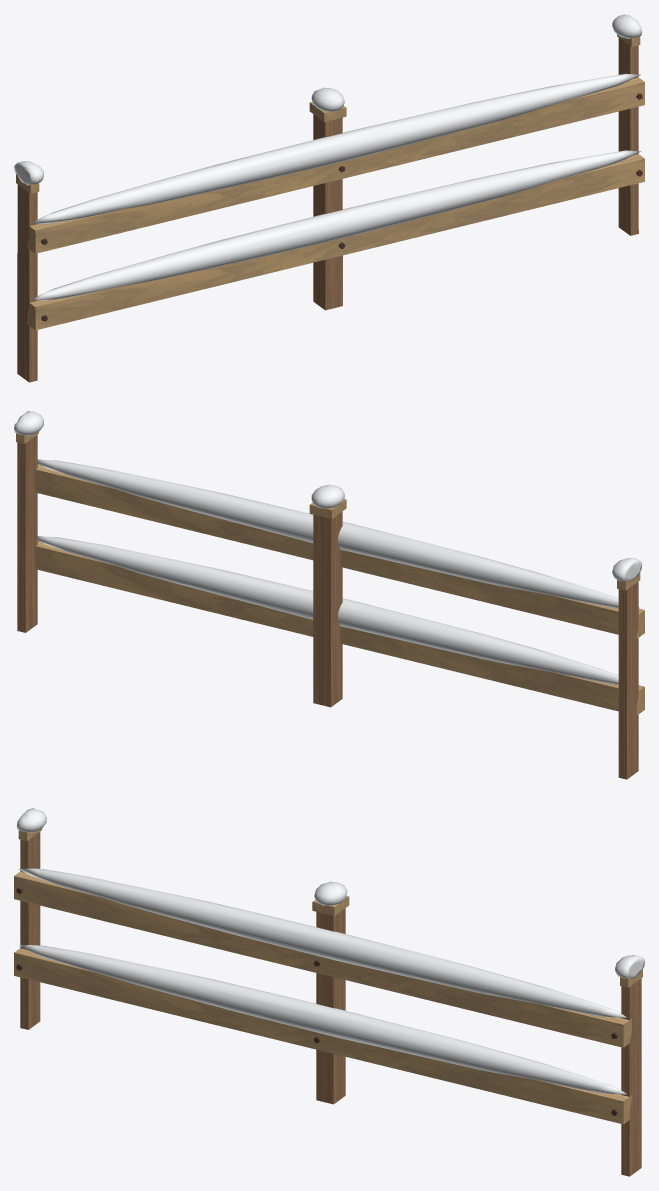
The model's file is fence.glb.
3 renders of one model, top to bottom at view 1: azimuth 30°, elevation 25°; view 2: azimuth 150°, elevation 25°; view 3: azimuth 330°, elevation 25°, orthographic.
Visible parts, largest first — view 1: fence; view 2: fence; view 3: fence.
Part boxes in pixels (left/top/right/bottom): fence: left=14, top=14, right=644, bottom=382; fence: left=14, top=411, right=644, bottom=779; fence: left=14, top=808, right=644, bottom=1176.
Size of the model in its own units: 4 by 1.34 by 0.2796.
Materials: 1 (1 with a texture image).
